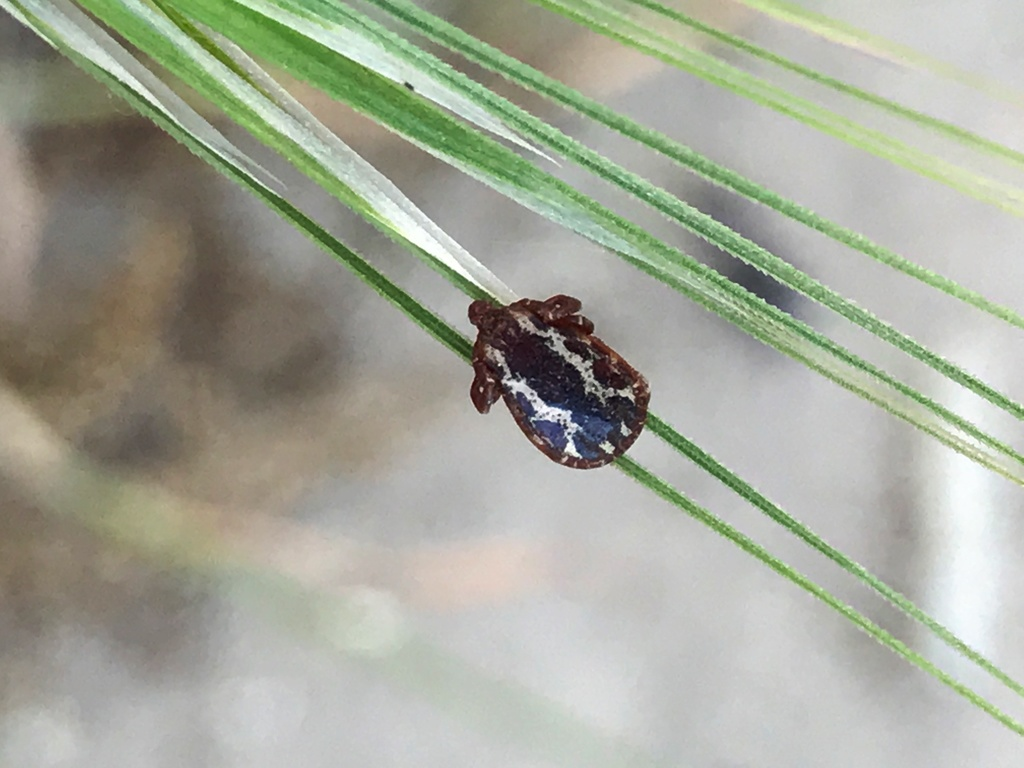garrapata: (424, 257, 690, 513)
